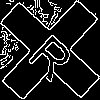R: (25, 25, 83, 84)
